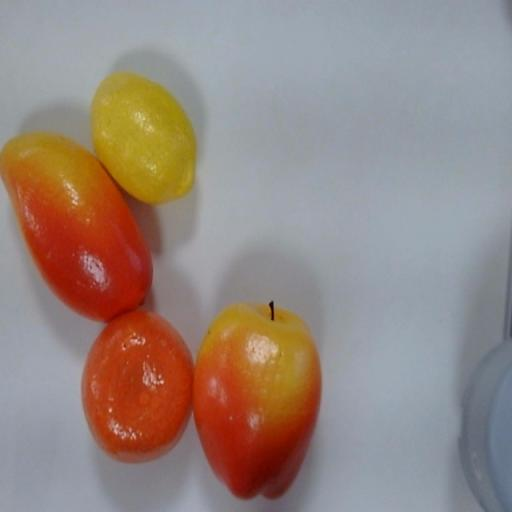Ripe: (87, 69, 199, 207)
